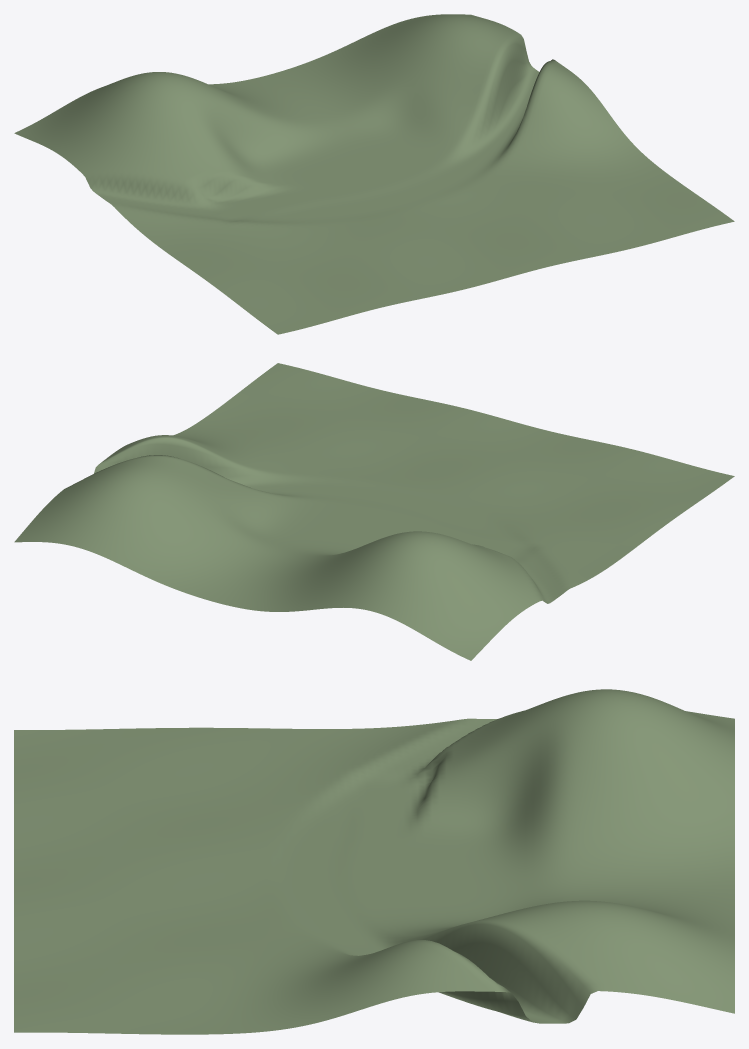
Rendered from SM_Terrain.fbx.
3 views of the same model, one above another, from view 1: azimuth 30°, elevation 25°; view 2: azimuth 150°, elevation 25°; view 3: azimuth 270°, elevation 25° (orthographic). The views are drawn at different scales.
Visible parts, largest first — view 1: SM_Terrain; view 2: SM_Terrain; view 3: SM_Terrain.
Part boxes in pixels (box(x1,y1,x2,y2)): SM_Terrain: box(14, 14, 734, 334); SM_Terrain: box(14, 363, 734, 660); SM_Terrain: box(14, 689, 734, 1034).
Bounding box in the file's own units: 10000 × 10000 × 1510.
